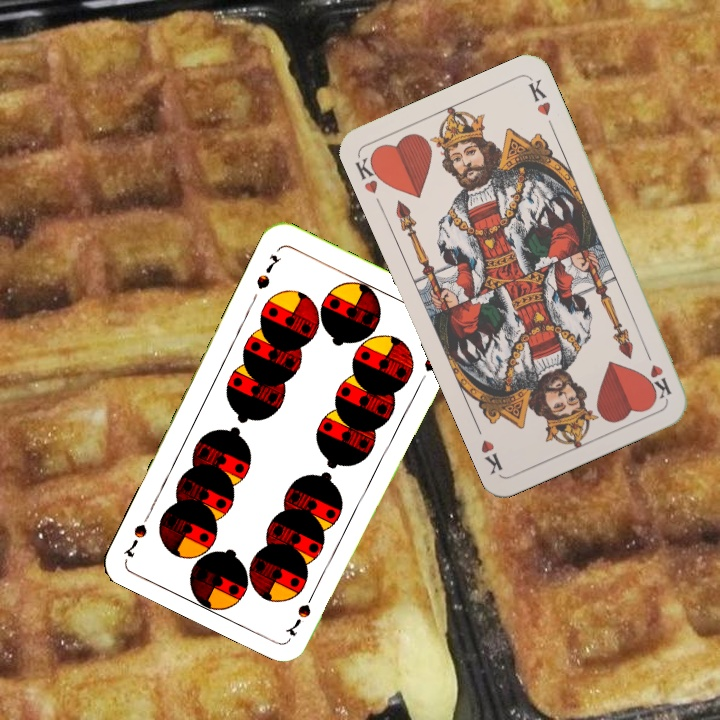HK: (640, 344, 674, 402), (351, 149, 388, 196)
S7: (283, 585, 319, 639), (252, 250, 285, 293)
